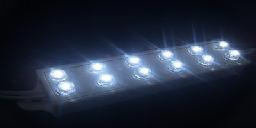LED: (34, 38, 254, 104), (53, 77, 84, 96), (134, 66, 155, 80), (159, 48, 174, 64)
